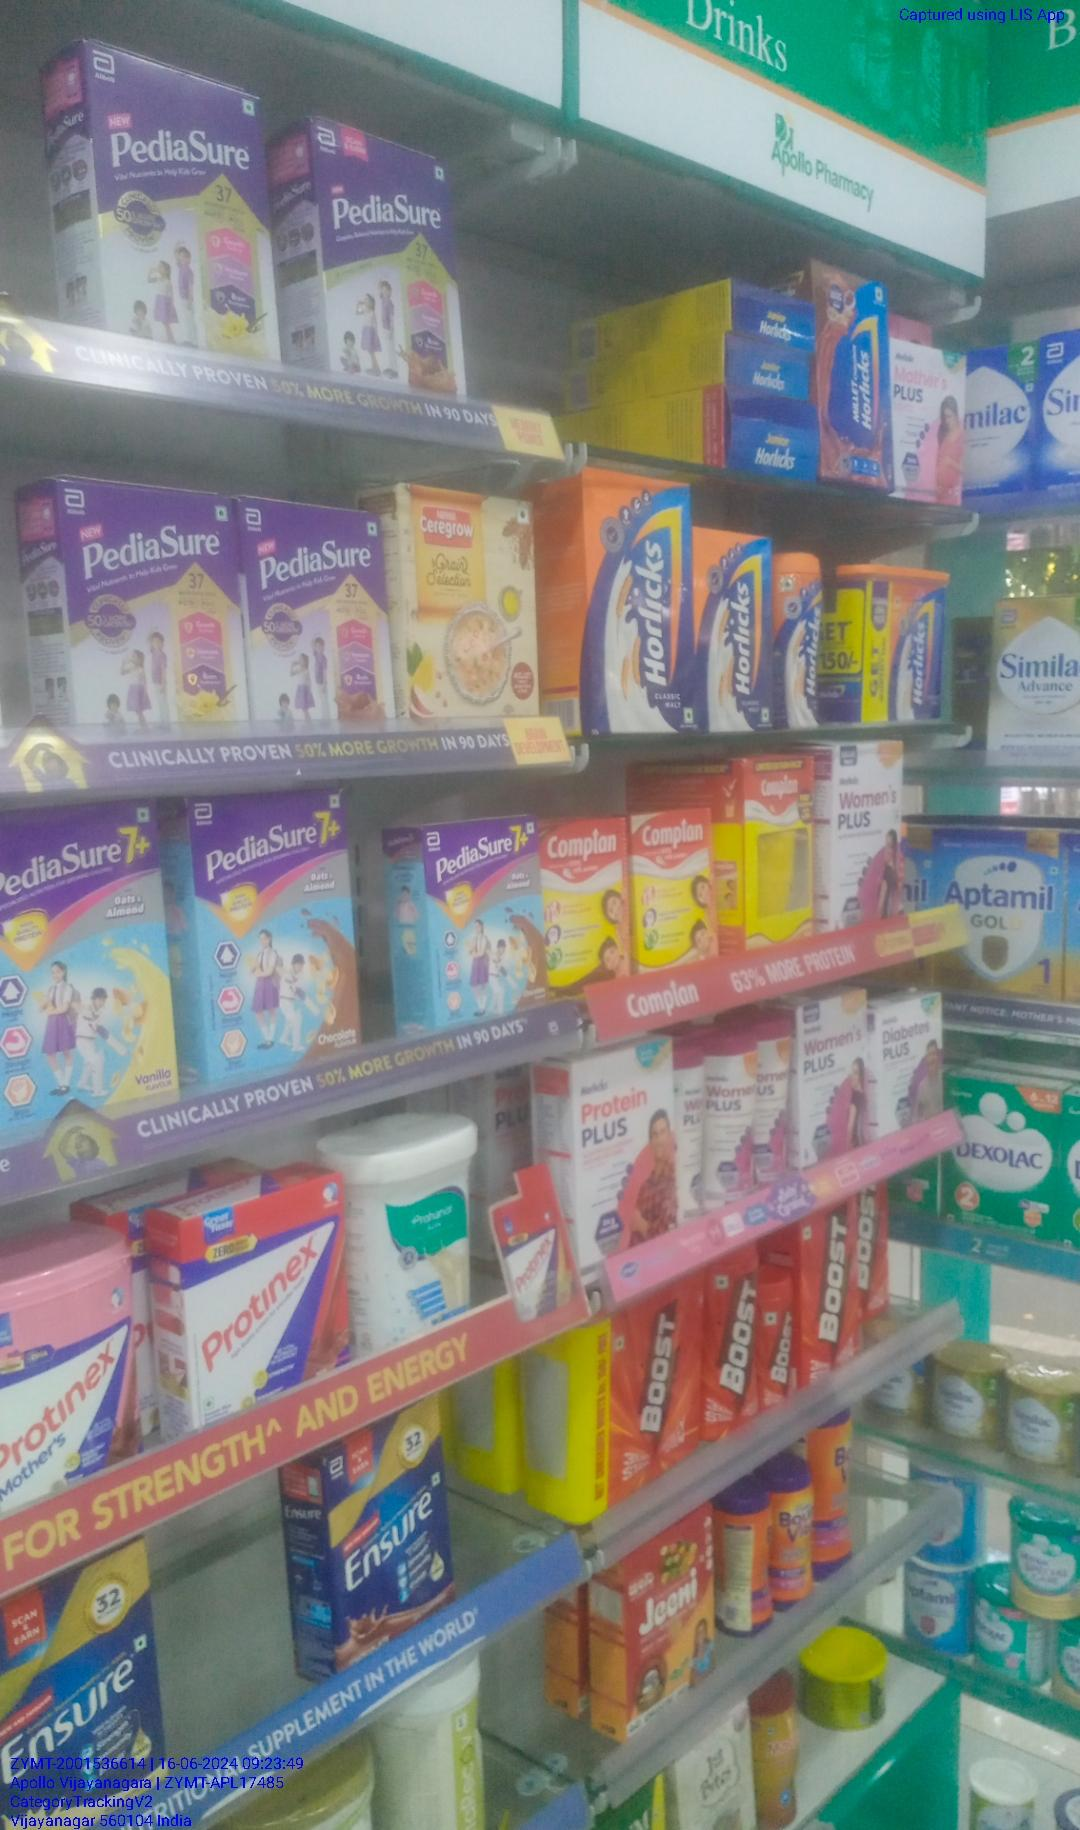HORLICK_CLASSIC_MALT_500_G_JAR: (782, 555, 831, 735)
HORLICK_CLASSIC_MALT_500_G_PACK: (689, 531, 779, 738)
HORLICK_MALT_1_KG_CONTAINER: (824, 565, 955, 722)
PEDIASURE_7_PLUS_CHOCOLATE_400_G_PACK: (185, 788, 364, 1072), (409, 816, 558, 1037)
PEDIASURE_CHOCOLATE_500_G_PACK: (307, 122, 469, 387), (234, 495, 397, 722)
PEDIASURE_VANILLA_500_G_PACK: (89, 81, 284, 370), (54, 465, 243, 735)
